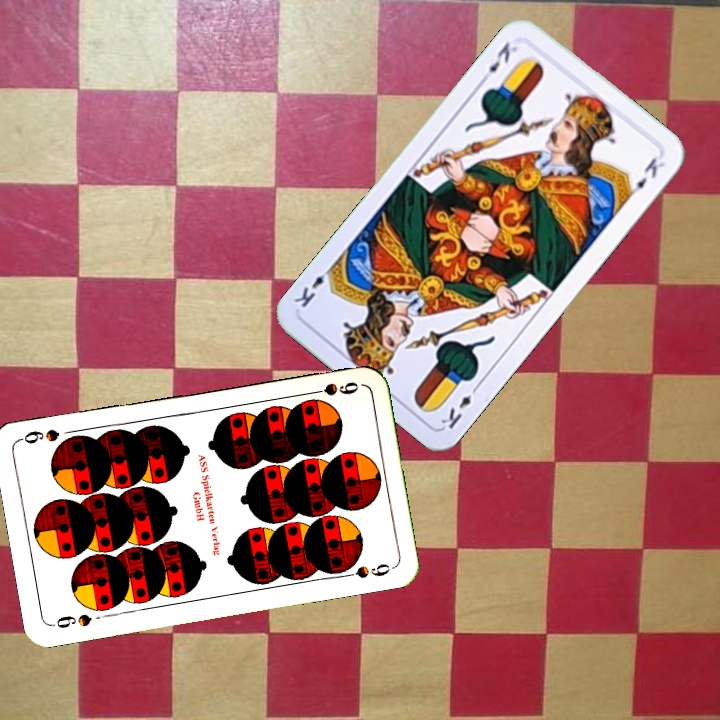EK: (437, 380, 483, 432), (476, 38, 520, 86)
S9: (303, 377, 361, 398), (48, 609, 94, 631)
